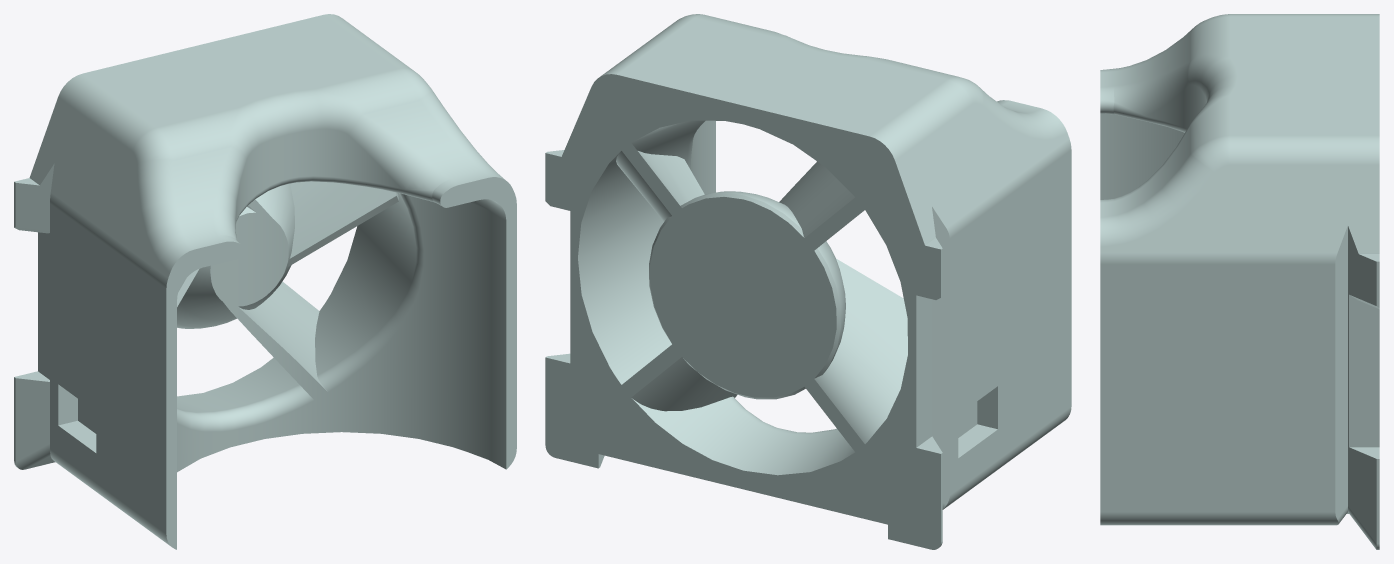
Rendered from A4T HE Duct - TZ-V6-2.0 [Stock Nozzle].gltf.
3 views of the same model, side by side, from view 1: azimuth 30°, elevation 25°; view 2: azimuth 150°, elevation 25°; view 3: azimuth 270°, elevation 25° (orthographic). The views are drawn at different scales.
Parts seen in each view (by area): view 1: A4T HE Duct - TZ-V6-2.0; view 2: A4T HE Duct - TZ-V6-2.0; view 3: A4T HE Duct - TZ-V6-2.0.
Part boxes in pixels (x1,y1,x2,y2): A4T HE Duct - TZ-V6-2.0: (14,14,516,549); A4T HE Duct - TZ-V6-2.0: (545,14,1071,549); A4T HE Duct - TZ-V6-2.0: (1100,14,1379,549).
Size of the model in its own units: 0.0287 by 0.0276 by 0.0182.
